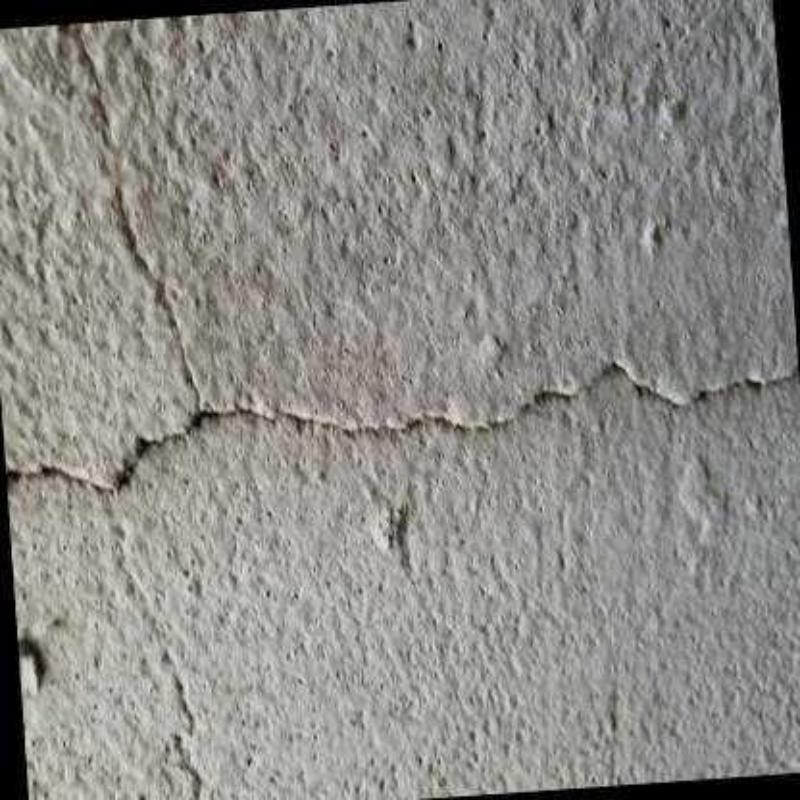crack: (4, 23, 798, 497)
